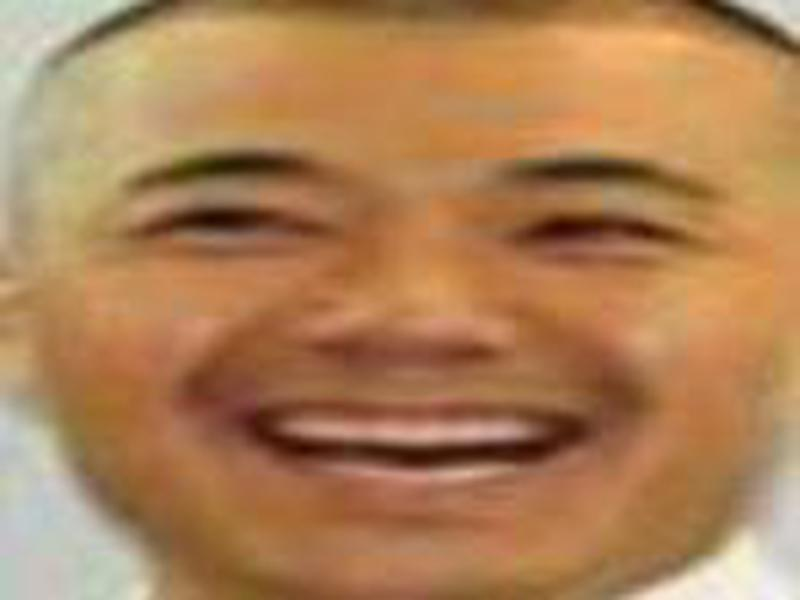without_mask: (21, 94, 800, 600)
